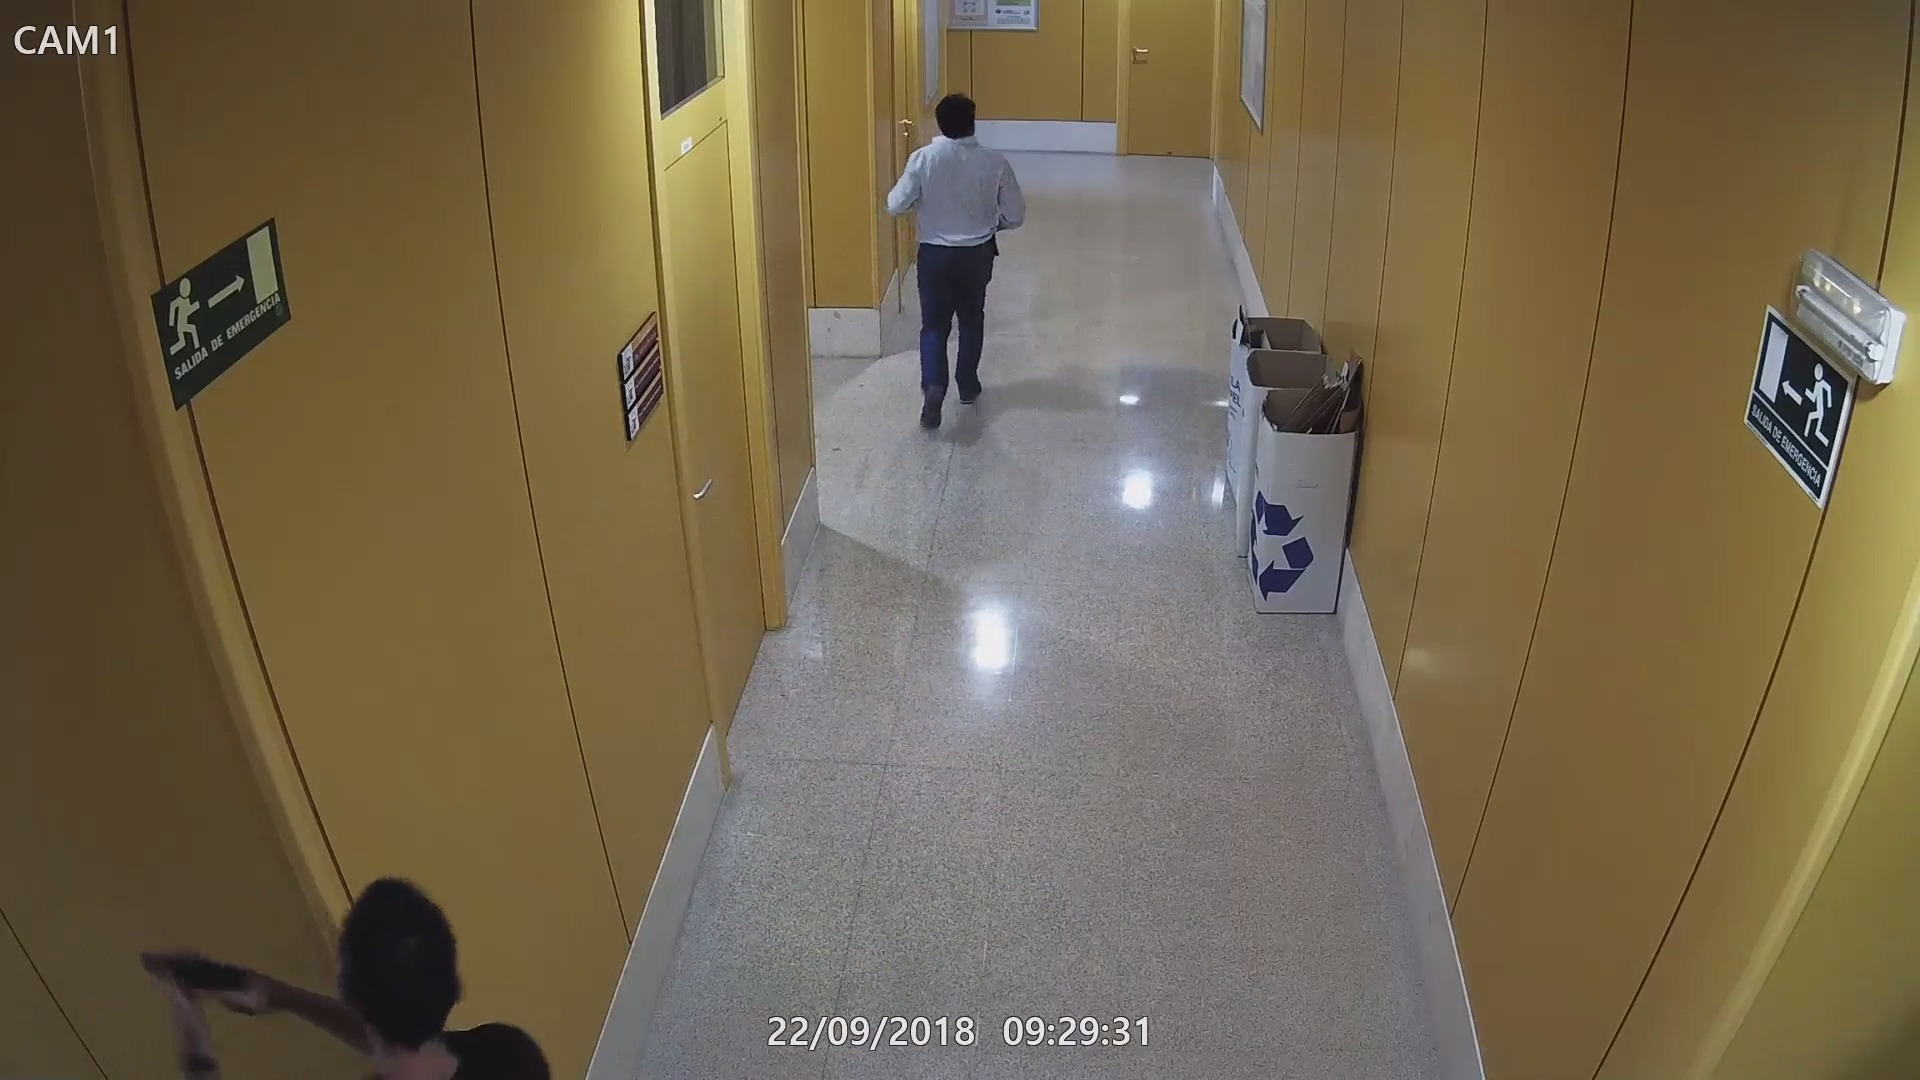Handgun: (138, 947, 272, 1029)
